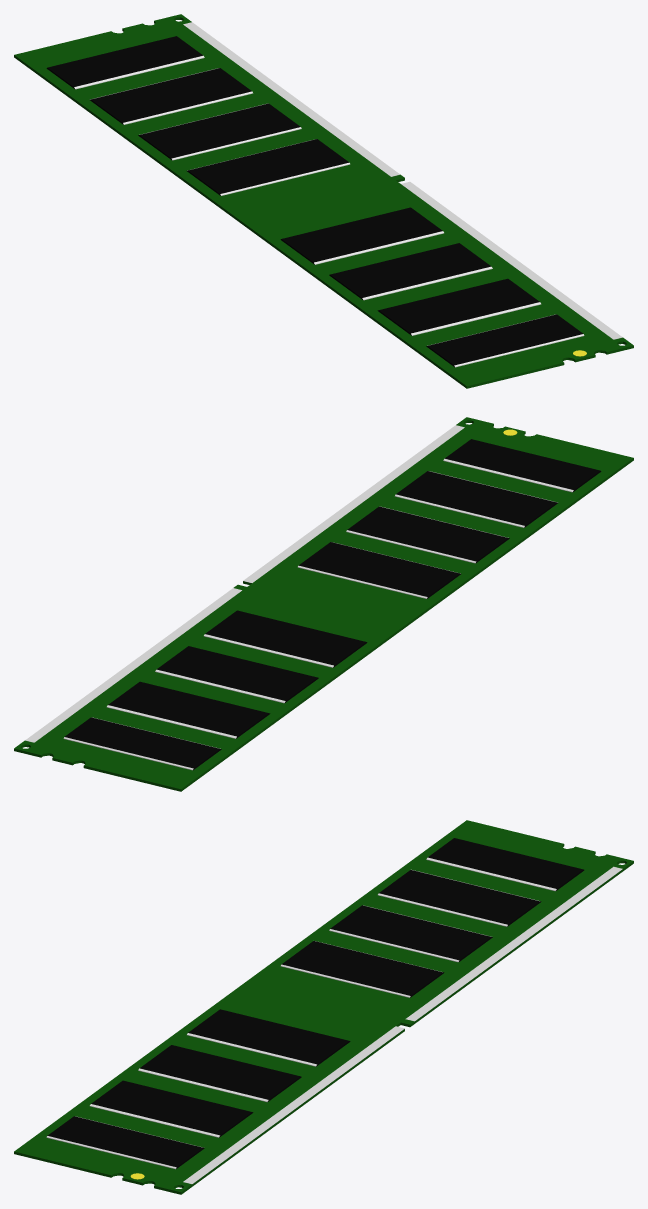
File: RAM (1).fbx
The picture shows the model from 3 angles, top to bottom: view 1: azimuth 30°, elevation 25°; view 2: azimuth 150°, elevation 25°; view 3: azimuth 330°, elevation 25°; orthographic projection.
Parts seen in each view (by area): view 1: RAM; view 2: RAM; view 3: RAM.
Part boxes in pixels (x1,y1,x2,y2): RAM: (14,14,633,388); RAM: (14,417,633,791); RAM: (14,820,633,1194).
Size of the model in its own units: 159 by 5.07 by 747.
